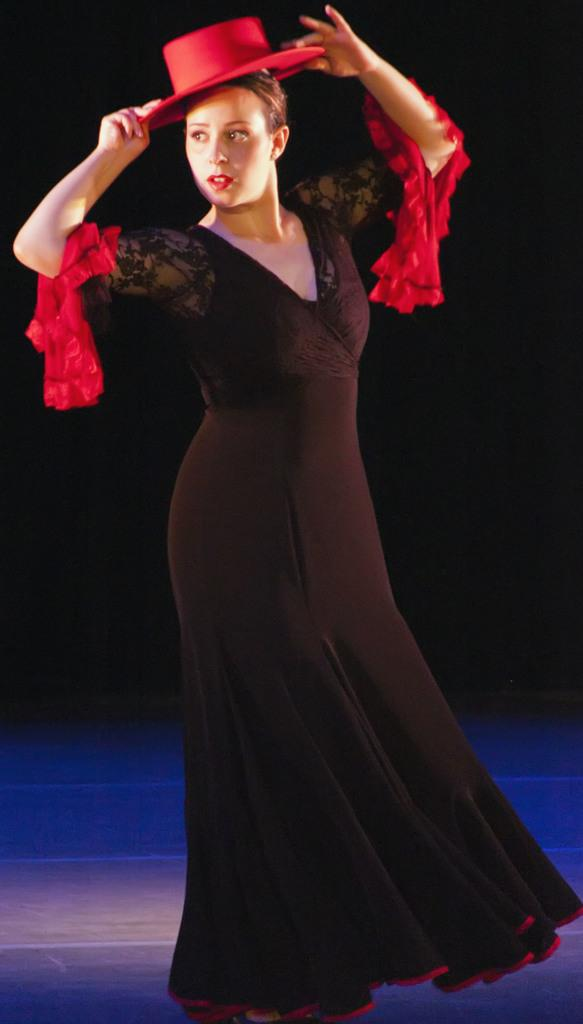Hat: (125, 14, 324, 138)
